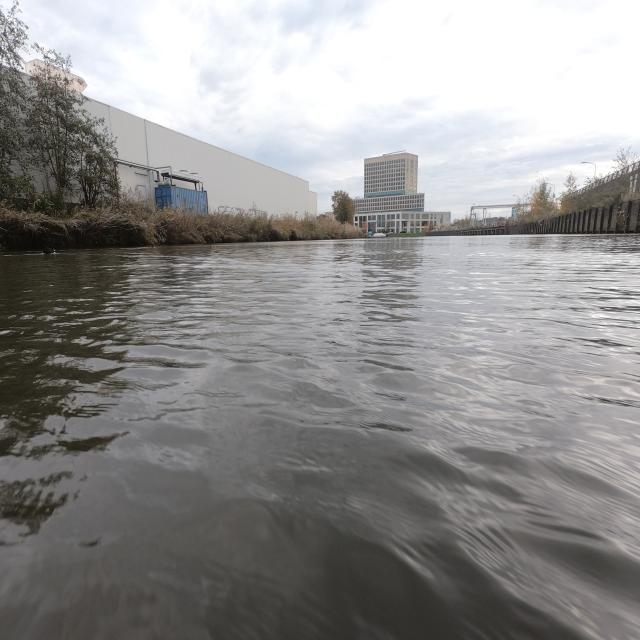reed: (0, 192, 366, 242)
sky: (10, 2, 638, 214)
tree: (0, 44, 119, 208)
wall: (509, 200, 640, 234)
water: (0, 234, 640, 640)
